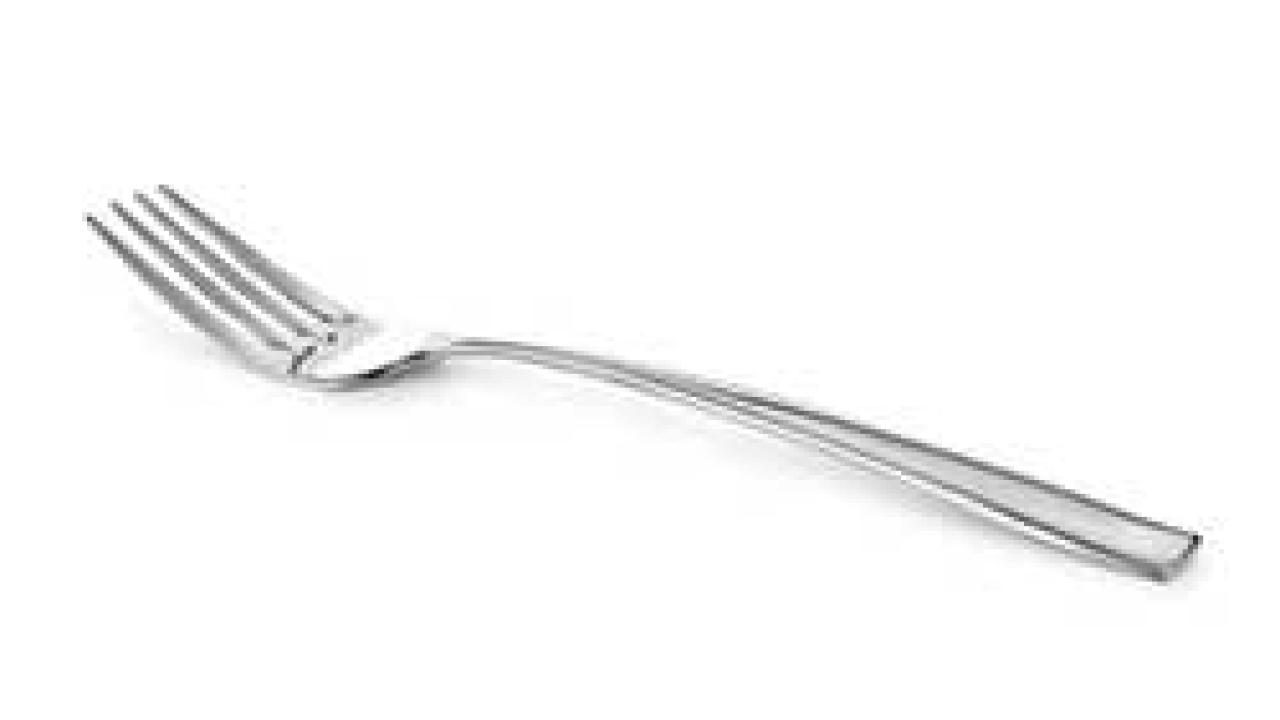fork: (82, 176, 1203, 582)
